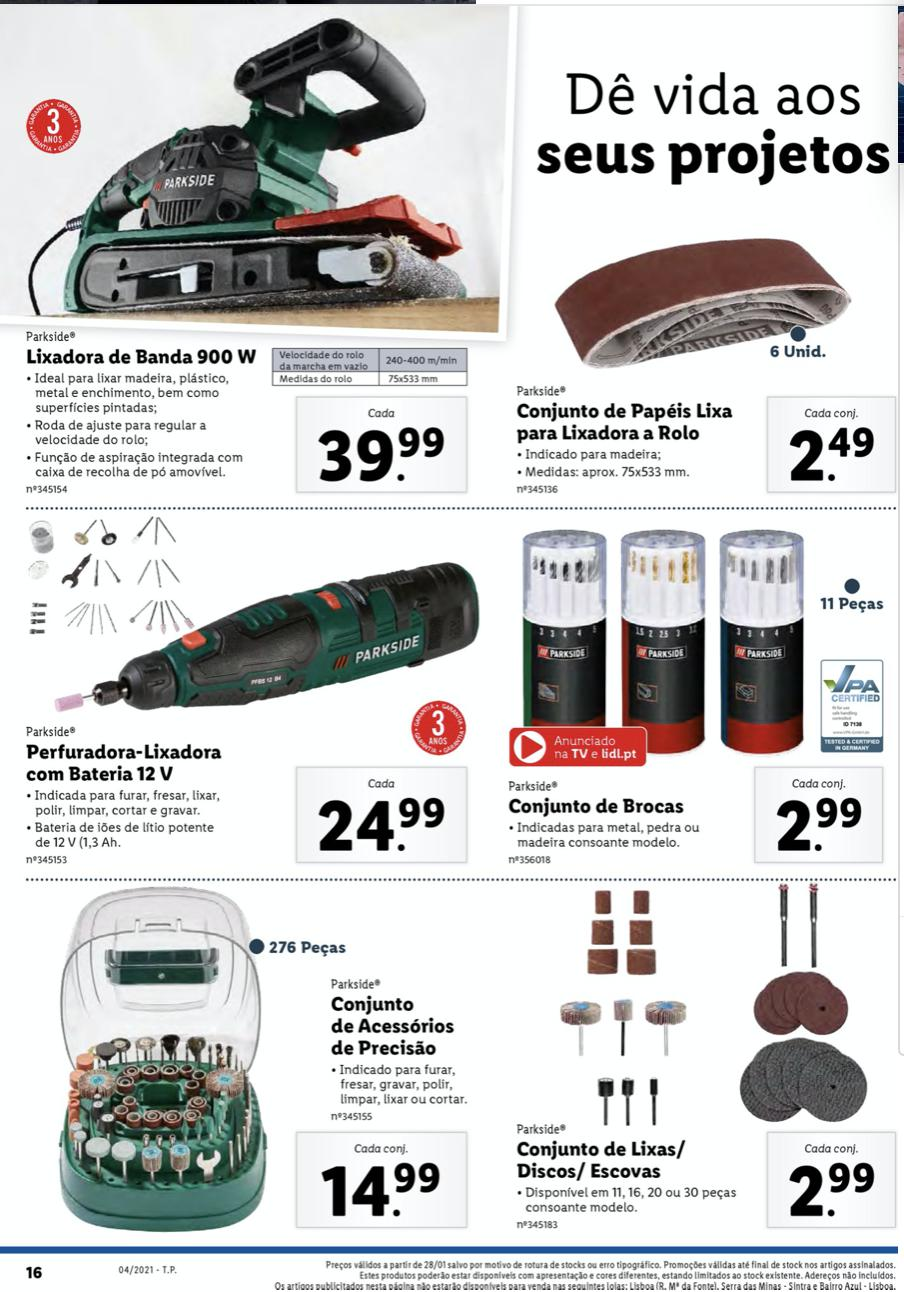name: (513, 399, 737, 444), (321, 991, 460, 1061), (24, 740, 224, 785), (510, 1140, 692, 1180), (26, 341, 263, 369), (503, 794, 690, 823)
price: (315, 1156, 445, 1228), (319, 791, 453, 856), (313, 430, 458, 483), (766, 793, 869, 857), (782, 420, 877, 488), (786, 1156, 873, 1227)
product: (3, 30, 505, 494), (8, 514, 486, 875), (10, 888, 487, 1240), (487, 880, 886, 1240), (497, 520, 894, 873), (511, 198, 895, 496)
